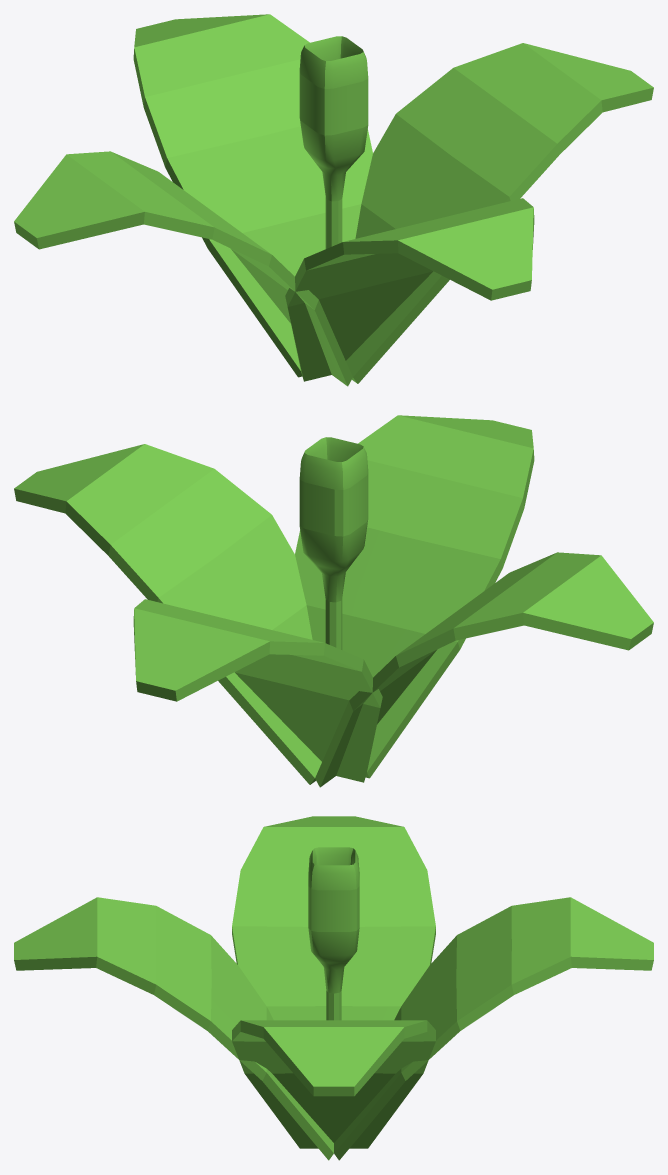
File: Plant.fbx
3 renders of one model, top to bottom at view 1: azimuth 30°, elevation 25°; view 2: azimuth 150°, elevation 25°; view 3: azimuth 270°, elevation 25°, orthographic. The views are drawn at different scales.
Parts seen in each view (by area): view 1: Plant; view 2: Plant; view 3: Plant.
Boxes of the visible parts, box(x1,y1,x2,y2) form: Plant: box(14, 14, 653, 386); Plant: box(14, 415, 653, 787); Plant: box(14, 816, 653, 1160).
Bounding box in the file's own units: 50 × 25 × 50.
